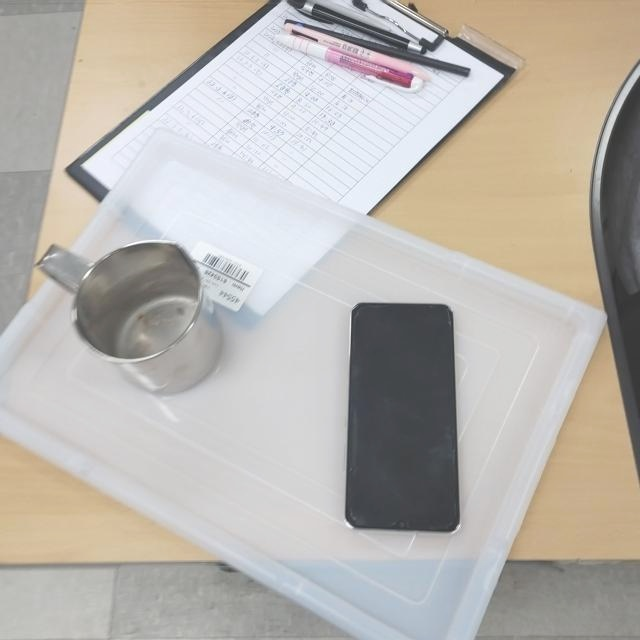cup: (36, 238, 228, 397)
phone: (346, 305, 462, 535)
